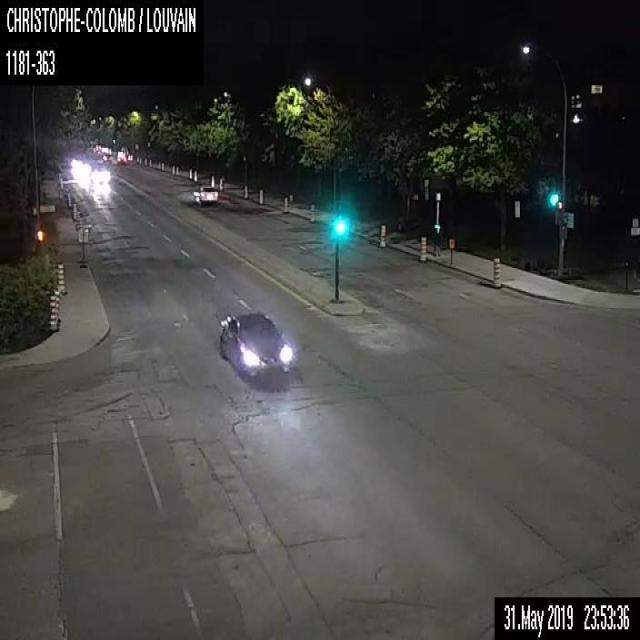construction: (78, 227, 88, 266), (50, 294, 59, 330), (52, 288, 59, 326), (57, 263, 66, 292), (493, 256, 501, 287), (448, 237, 454, 267), (419, 235, 426, 260), (56, 288, 61, 321), (378, 224, 385, 247), (308, 204, 314, 223), (72, 202, 77, 220), (75, 210, 80, 228), (258, 189, 263, 203), (67, 192, 72, 206), (283, 196, 287, 212), (218, 178, 222, 190), (243, 184, 246, 198), (211, 174, 214, 187), (193, 170, 196, 182), (188, 167, 191, 179), (138, 155, 141, 164), (144, 156, 147, 165), (157, 160, 160, 168), (160, 162, 163, 170), (176, 165, 178, 175), (172, 164, 174, 174), (149, 158, 151, 167), (136, 154, 138, 162)
vehicle: (218, 311, 293, 380), (193, 183, 217, 201), (93, 166, 107, 182), (117, 154, 126, 164), (102, 152, 111, 160)
